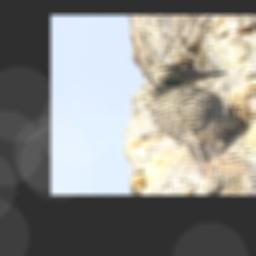Woodpecker: (147, 63, 249, 166)
